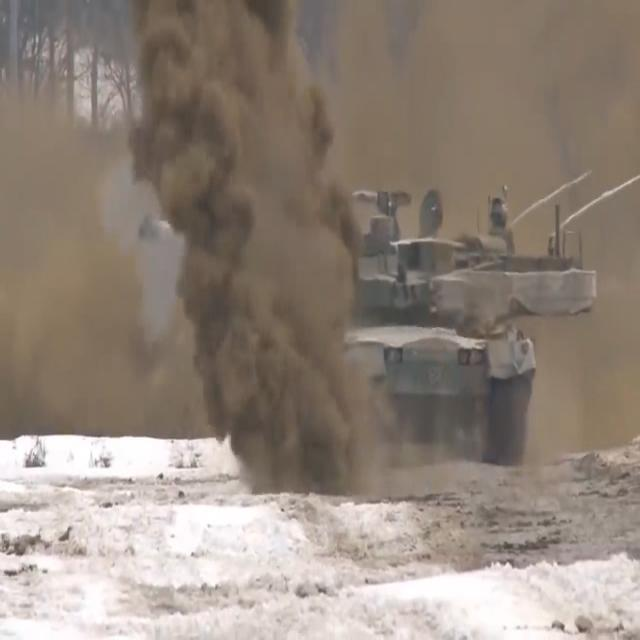korea tank: (135, 184, 599, 467)
